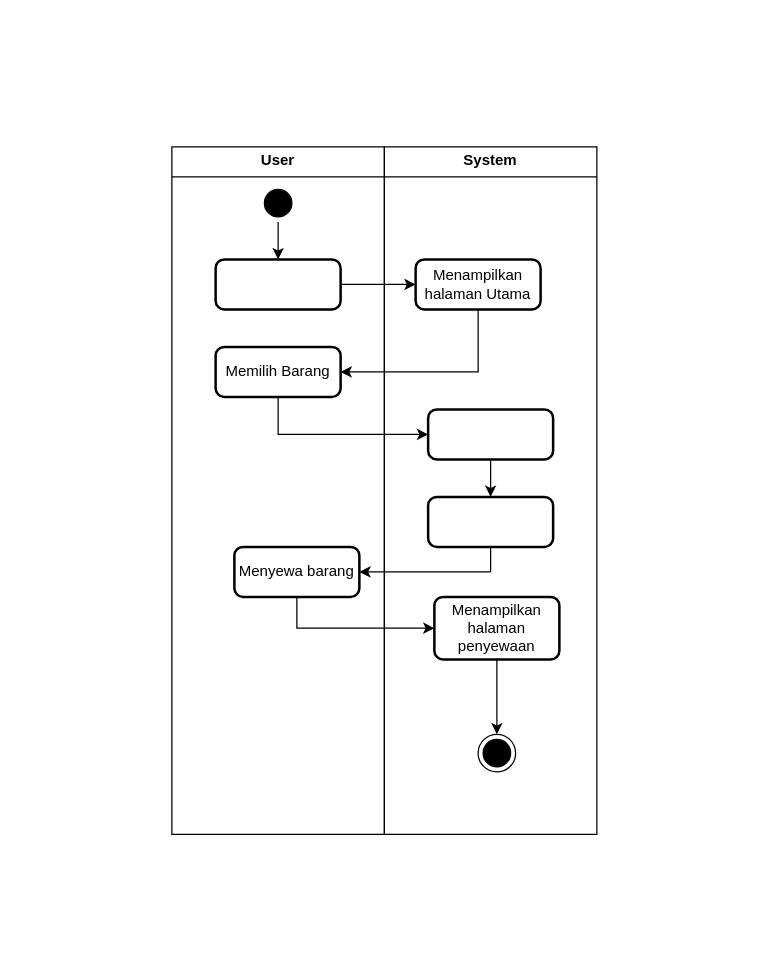
This 768x955 diagram has some shape labels left out. The shapes that lost their labels are listed below. From the top down, each one's centre as x and y in pixels, then its label:
At point 277,284: "Membuka Websie".
At point 490,434: "Memproses barang".
At point 490,521: "Menampilkan barang".
